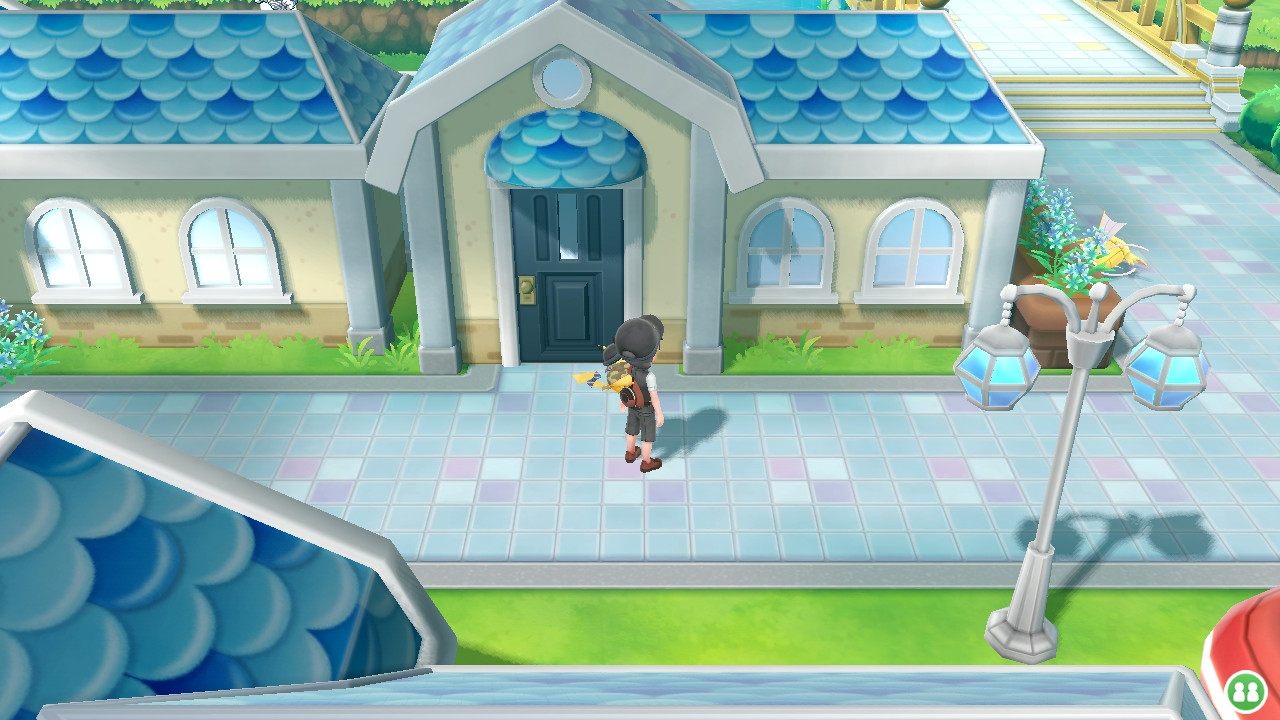Golden: (1072, 209, 1147, 277)
